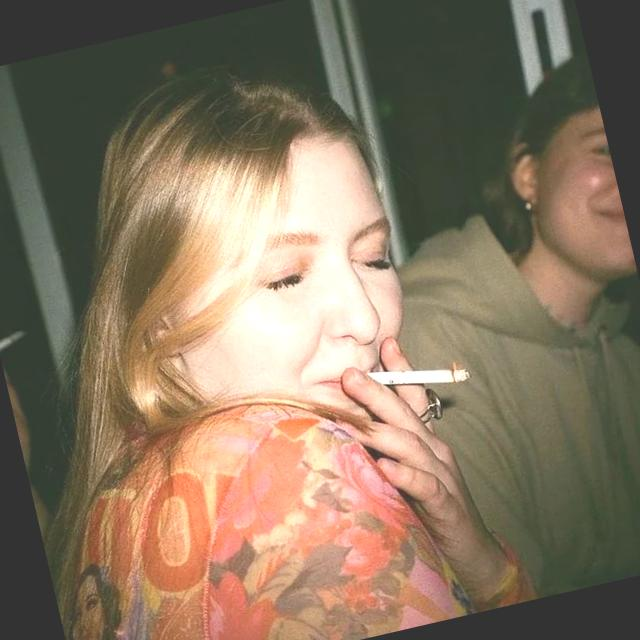smoke: (351, 343, 476, 413)
